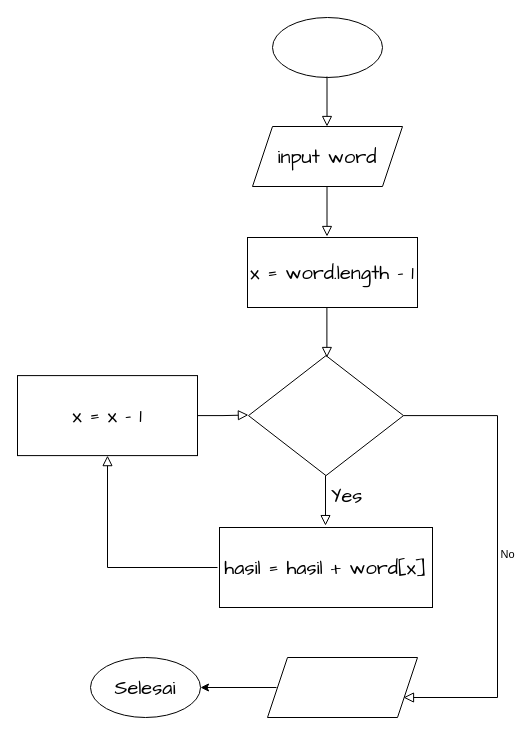
Some shapes in this 532 by 735 pixel diagram are drawn without their labels. Here are the shapes that lost their labels. From the top down, the box of each, then its label:
(272, 16, 382, 78): Mulai
(248, 355, 404, 476): x > 0
(266, 656, 418, 718): Output hasil
